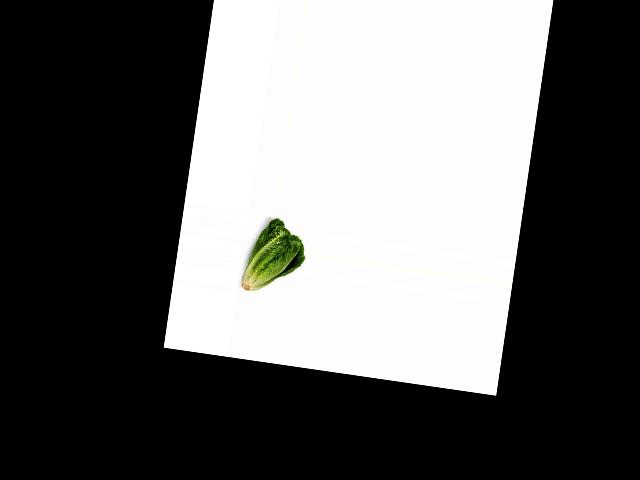lettuce: (237, 214, 309, 303)
